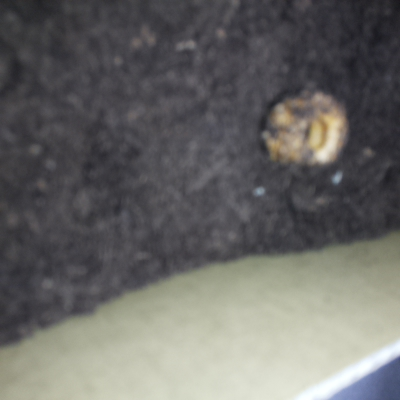eggs: (256, 81, 353, 174)
